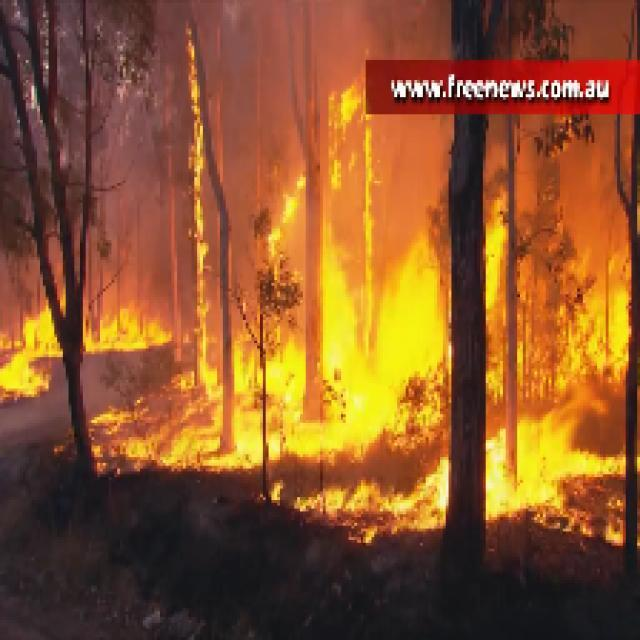Fire: (274, 232, 437, 452), (172, 34, 217, 472), (488, 406, 614, 512), (562, 260, 632, 389), (323, 66, 366, 186)
Smoke: (92, 60, 168, 269), (220, 2, 312, 138)
